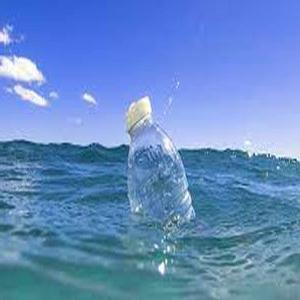Plastic: (109, 94, 197, 227)
